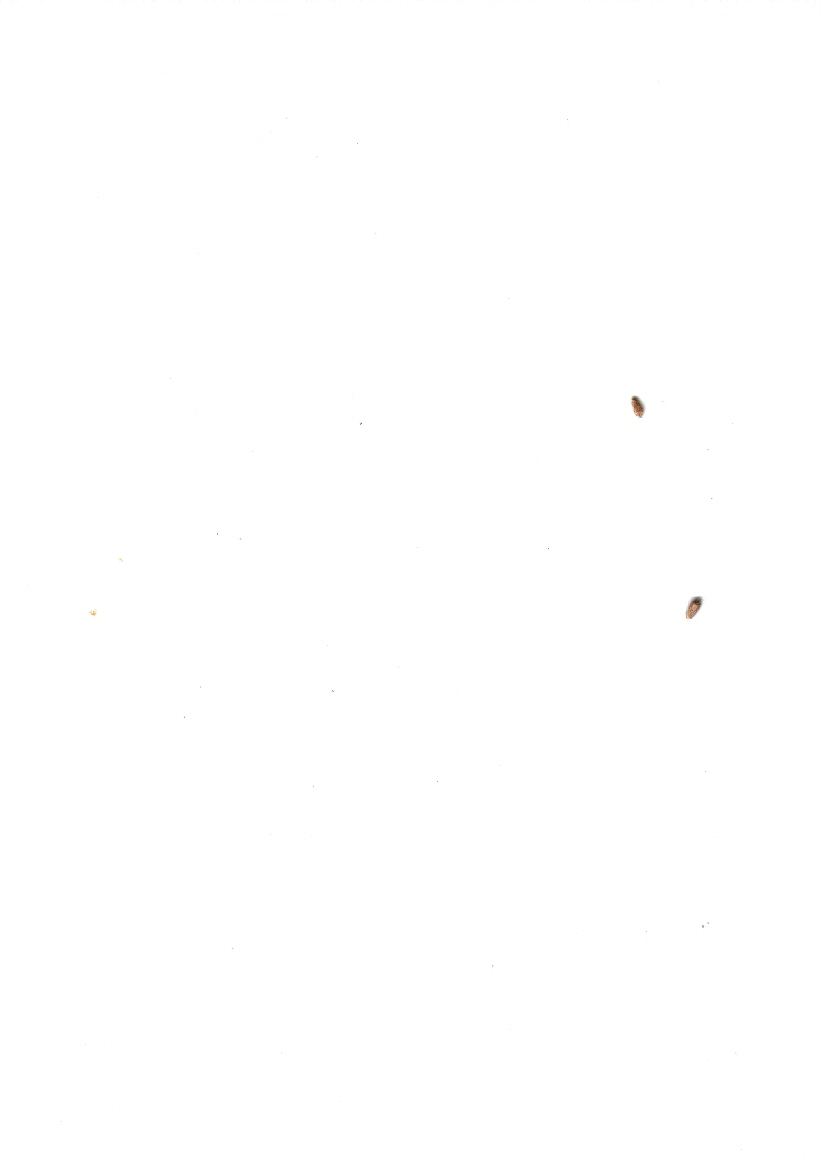grains: (618, 386, 657, 432), (673, 585, 708, 630)
